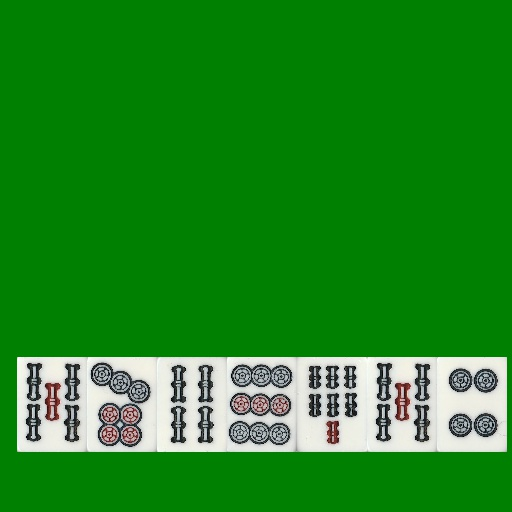4p: (437, 357, 507, 452)
4s: (157, 357, 227, 452)
5s: (17, 357, 87, 452), (367, 357, 437, 452)
7p: (87, 357, 157, 452)
7s: (297, 357, 367, 452)
9p: (227, 357, 297, 452)
